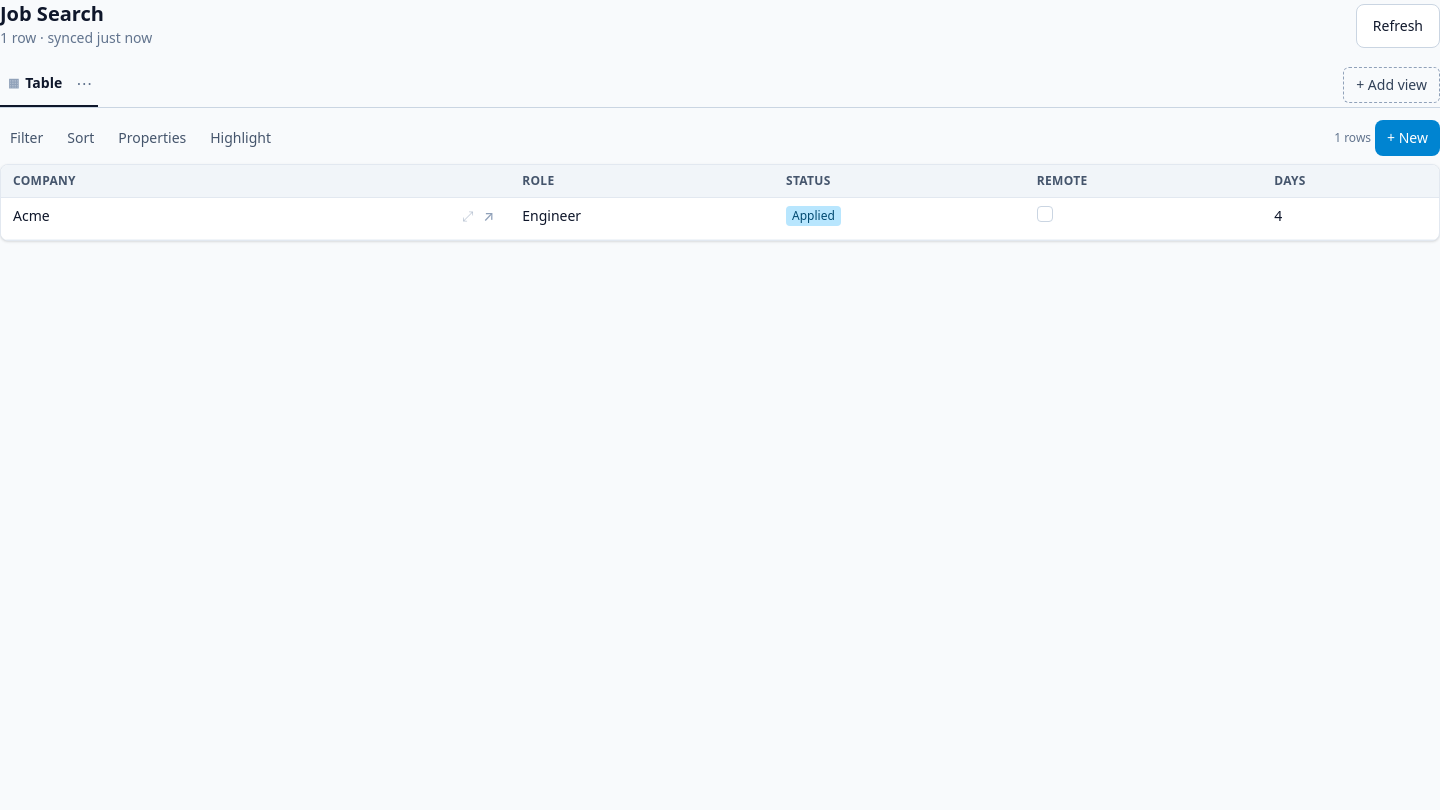
Scenario: DatabaseView editing › shows a conflict, then "Keep mine" re-sends with force
Click the cell named "Edit Role". click: point(642, 219)
box: left=510, top=198, right=774, bottom=240
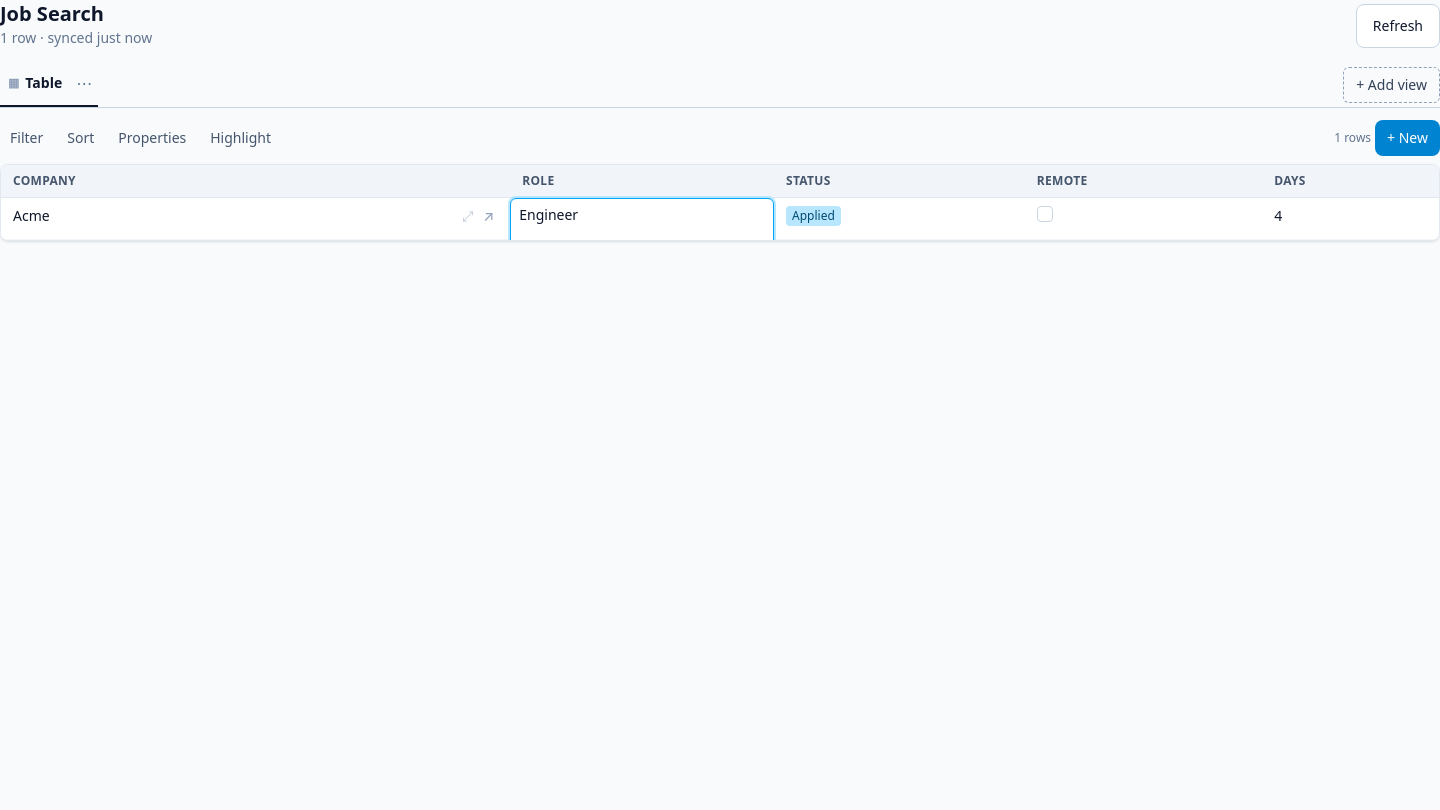
Replace the text in the text box named "Role" with "Mine". click: point(642, 225)
box: left=510, top=198, right=774, bottom=252
Then press Enter
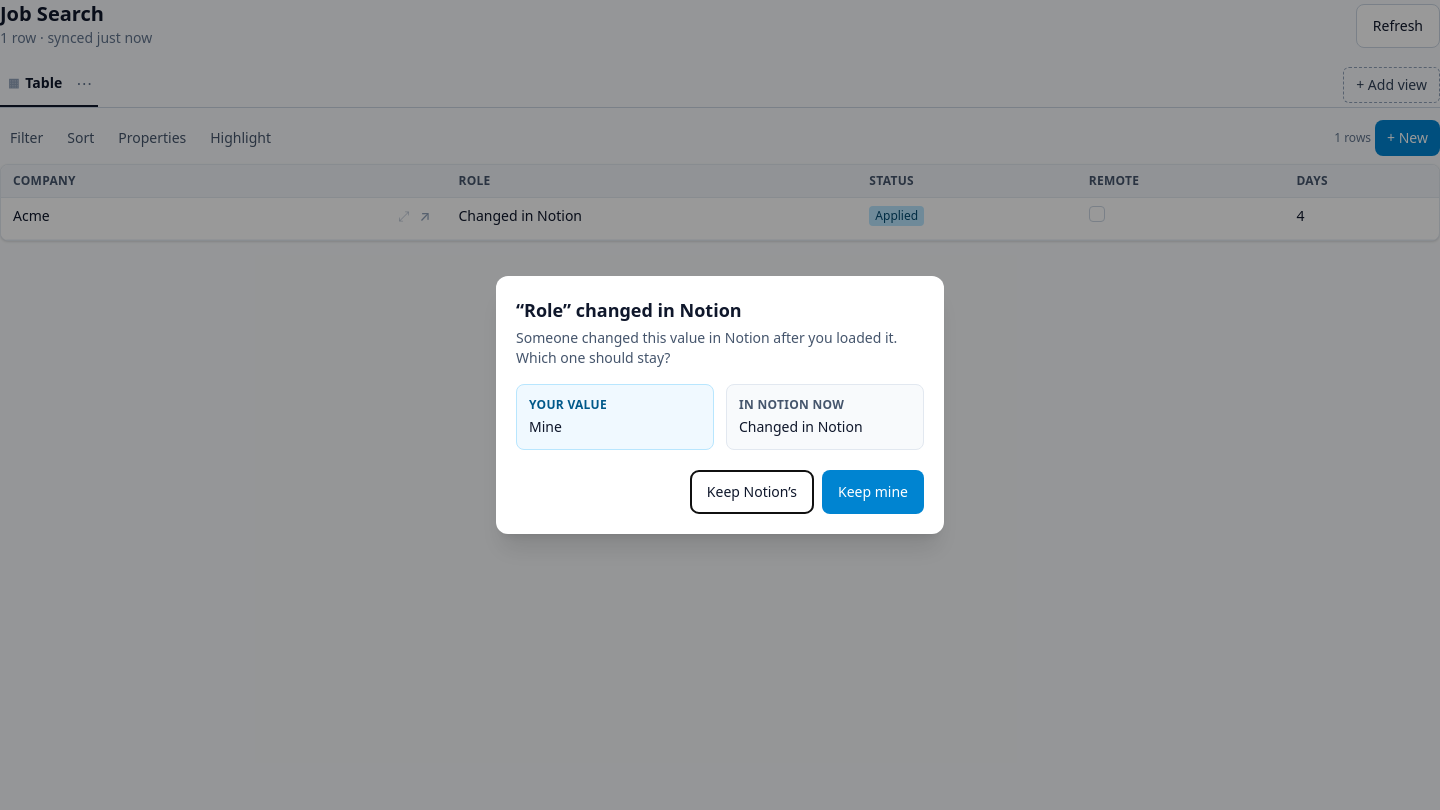
expect the element with test id "conflict-mine" reads "Mine": met, box left=529, top=417, right=562, bottom=436
expect the element with test id "conflict-theirs" reads "Changed in Notion": met, box left=739, top=417, right=863, bottom=436
Click the button "Keep mine". click: point(873, 492)
box: left=822, top=470, right=924, bottom=514
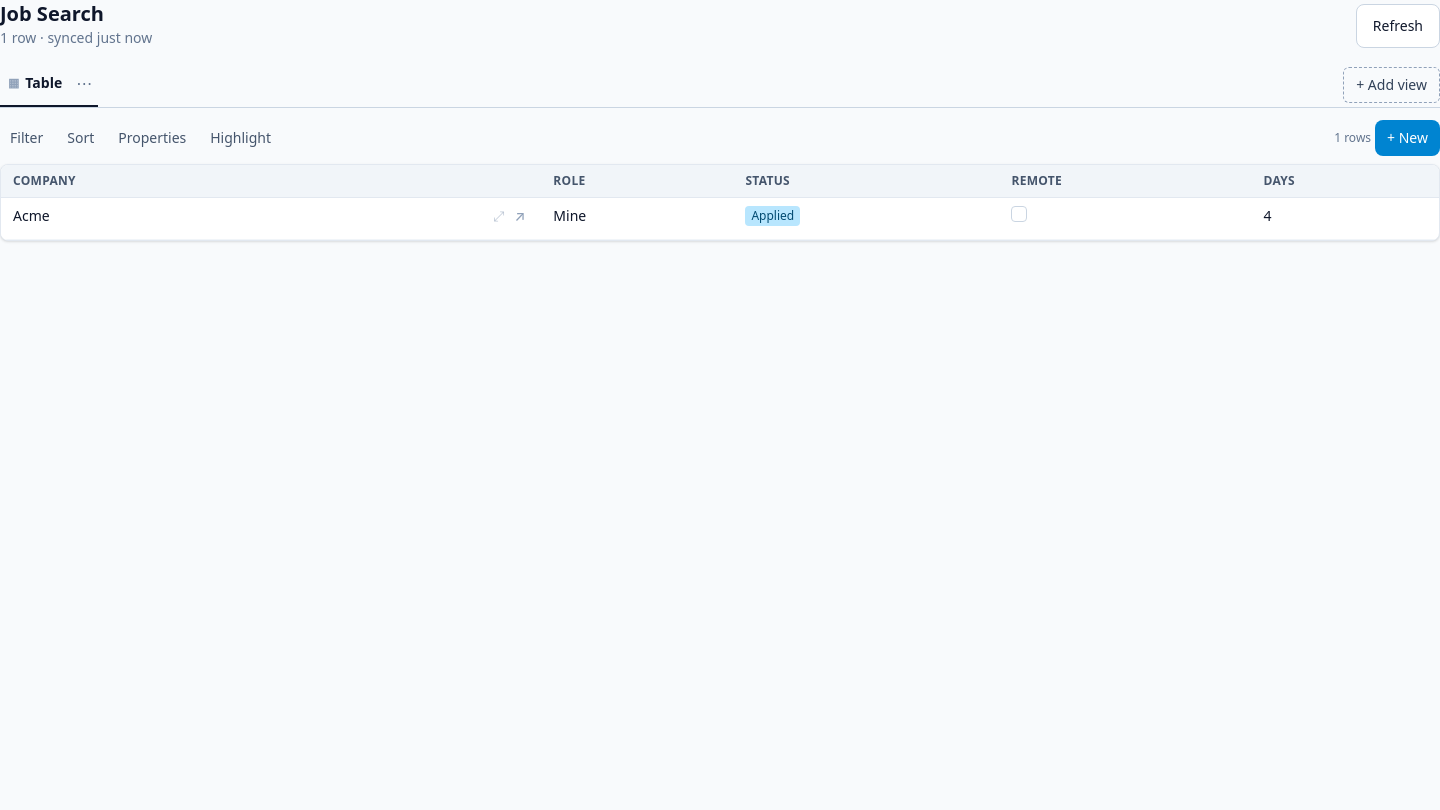
expect the text "Mine" is shown: met, box left=553, top=206, right=586, bottom=225
